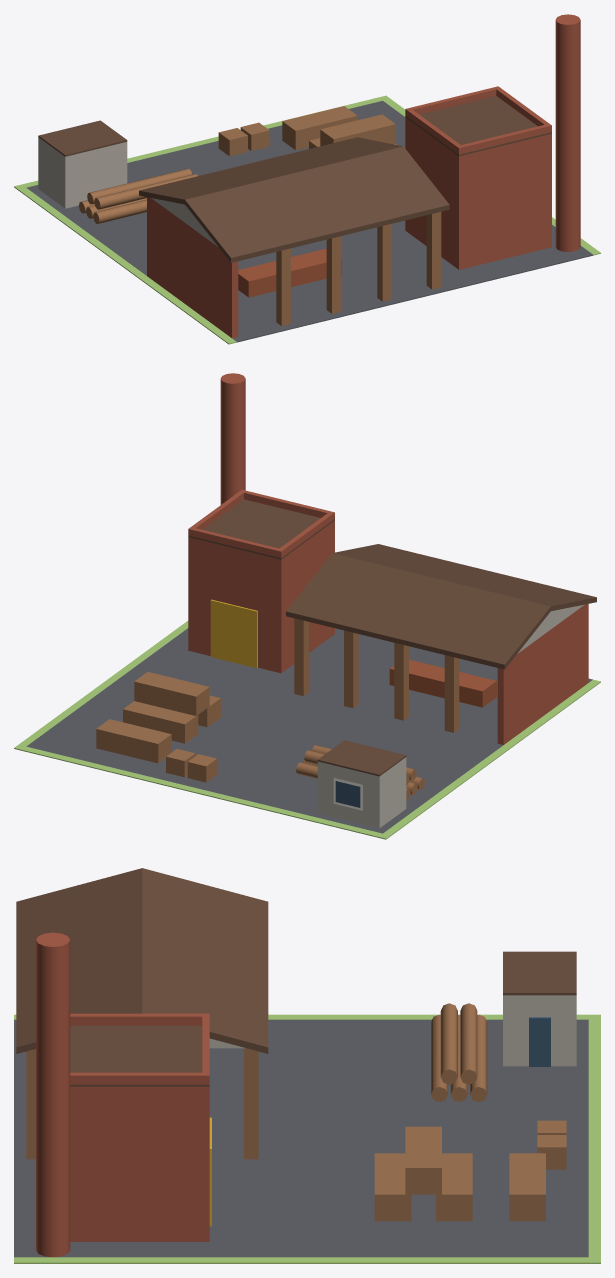
3 renders of one model, top to bottom at view 1: azimuth 30°, elevation 25°; view 2: azimuth 150°, elevation 25°; view 3: azimuth 270°, elevation 25°, orthographic. The views are drawn at different scales.
Parts seen in each view (by area): view 1: roof (×4), asphalt, kiln, wall, smoke_stack, column (×4), office, plank_stack (×2), parapet (×4), lawn (×2), log (×3), saw_bench (+2 smaller); view 2: asphalt, roof (×4), kiln, wall, plank_stack (×3), lawn (×3), column (×4), office, smoke_stack, garage_door, saw_bench, parapet (×2) (+2 smaller); view 3: asphalt, roof (×4), kiln, smoke_stack, plank_stack (×4), lawn (×3), log (×5), office, parapet (×3), column (×2), door, pallet.
Boxes of the visible parts, x1=… form: roof (×4): x1=38, y1=96, x2=551, y2=262; asphalt: x1=26, y1=100, x2=593, y2=342; kiln: x1=405, y1=117, x2=551, y2=269; wall: x1=147, y1=197, x2=238, y2=338; smoke_stack: x1=555, y1=14, x2=580, y2=251; column (×4): x1=276, y1=212, x2=441, y2=326; office: x1=38, y1=137, x2=127, y2=208; plank_stack (×2): x1=282, y1=106, x2=395, y2=150; parapet (×4): x1=405, y1=86, x2=551, y2=154; lawn (×2): x1=14, y1=97, x2=382, y2=344; log (×3): x1=87, y1=168, x2=197, y2=223; saw_bench: x1=238, y1=248, x2=341, y2=297; asphalt: x1=26, y1=628, x2=592, y2=833; roof (×4): x1=188, y1=499, x2=596, y2=776; kiln: x1=188, y1=521, x2=334, y2=673; wall: x1=497, y1=604, x2=588, y2=744; plank_stack (×3): x1=96, y1=672, x2=209, y2=763; lawn (×3): x1=14, y1=620, x2=600, y2=839; column (×4): x1=294, y1=618, x2=459, y2=732; office: x1=317, y1=757, x2=406, y2=828; smoke_stack: x1=220, y1=373, x2=245, y2=504; garage_door: x1=210, y1=599, x2=257, y2=668; saw_bench: x1=389, y1=659, x2=496, y2=707; parapet (×2): x1=188, y1=489, x2=334, y2=557; asphalt: x1=14, y1=1019, x2=588, y2=1257; roof (×4): x1=16, y1=868, x2=576, y2=1086; kiln: x1=70, y1=1086, x2=209, y2=1241; smoke_stack: x1=36, y1=932, x2=70, y2=1257; plank_stack (×4): x1=374, y1=1126, x2=545, y2=1221; lawn (×3): x1=14, y1=1014, x2=600, y2=1263; log (×5): x1=431, y1=1003, x2=487, y2=1102; office: x1=503, y1=995, x2=576, y2=1066; parapet (×3): x1=70, y1=1013, x2=209, y2=1084; column (×2): x1=26, y1=1048, x2=258, y2=1159; door: x1=529, y1=1017, x2=550, y2=1066; pallet: x1=537, y1=1135, x2=566, y2=1169.
Size of the model in its own units: 24 by 14.06 by 24.
